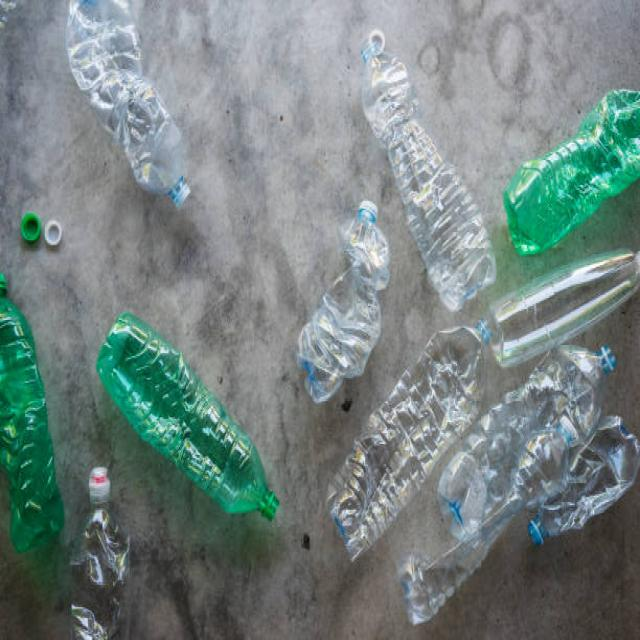plastic: (302, 194, 589, 566), (97, 314, 275, 516), (66, 2, 209, 216)
